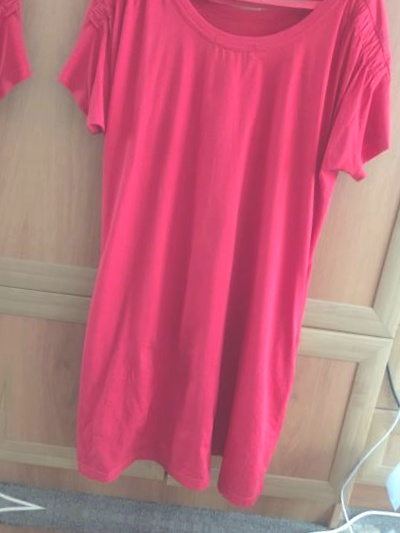Dress: (11, 0, 400, 524), (0, 0, 42, 475), (0, 529, 345, 533)
